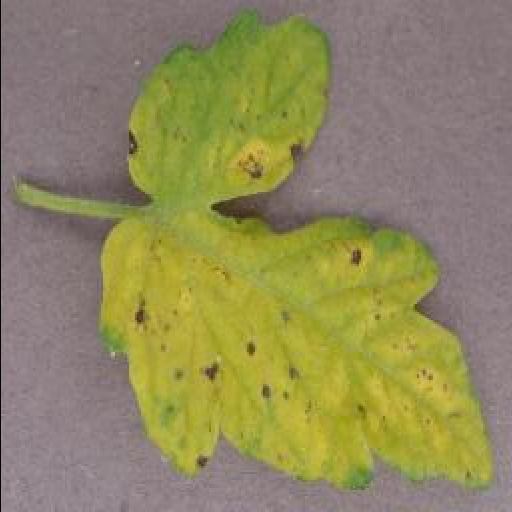disease_tomato: (102, 12, 496, 490)
